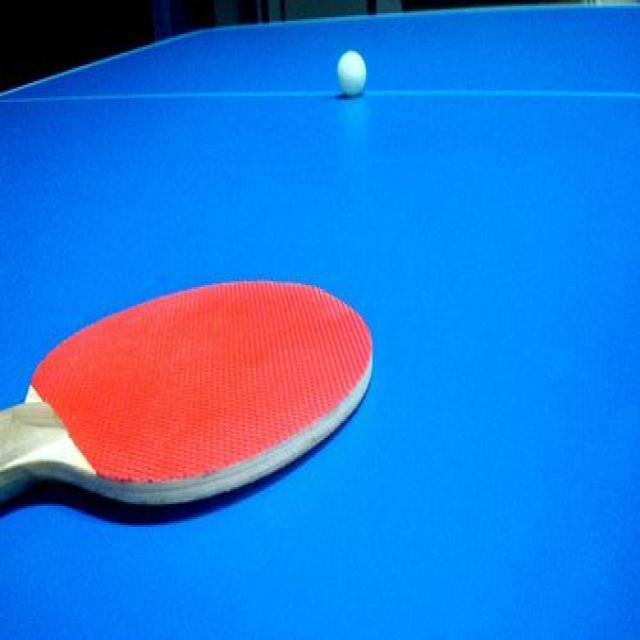ping-pong-ball: (338, 50, 368, 94)
